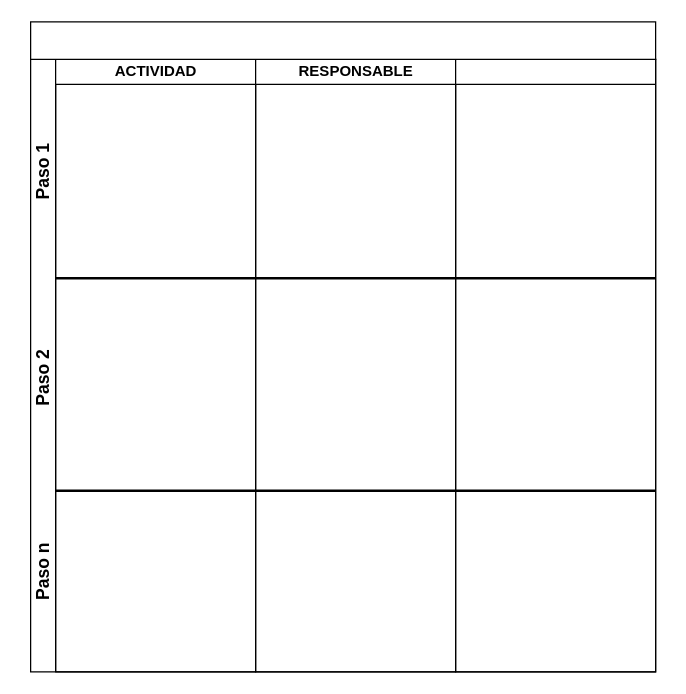
Image size: 686x694. Some labels were removed from this diagram. Here are the shapes that lost their labels. From the top down, the box of each, then its label:
(29, 21, 656, 59): TITULO DEL PROCEDIMIENTO
(454, 58, 656, 672): COMENTARIO
